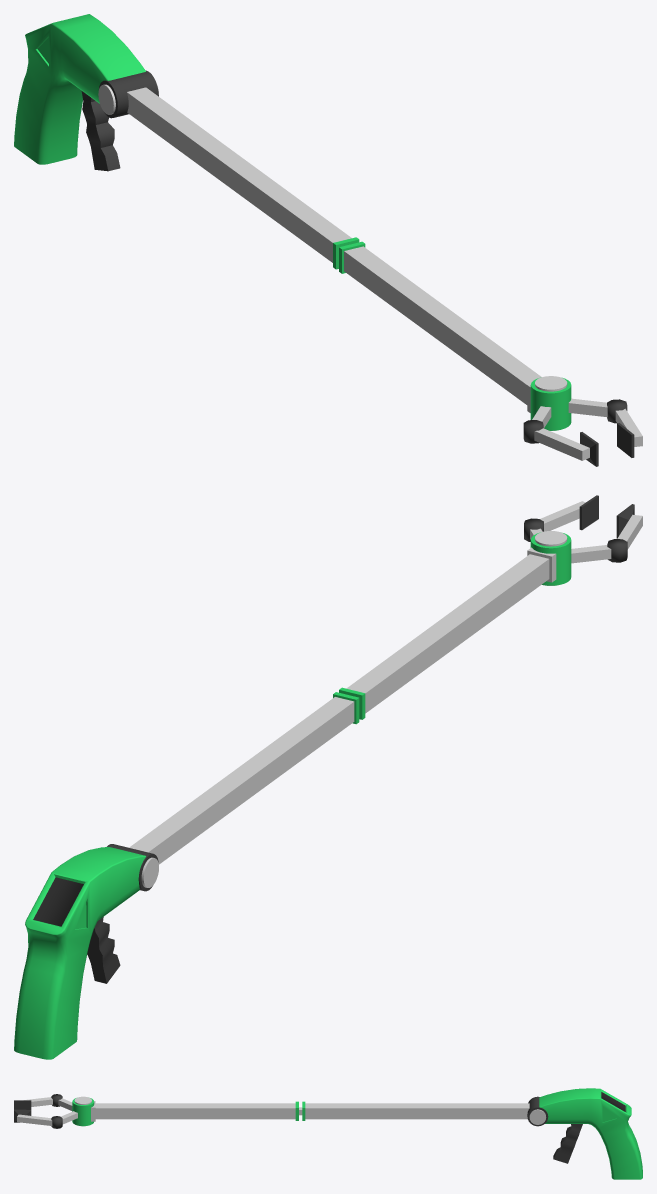
The model's file is Trash Clipper.fbx.
3 renders of one model, top to bottom at view 1: azimuth 30°, elevation 25°; view 2: azimuth 150°, elevation 25°; view 3: azimuth 270°, elevation 25°, orthographic. The views are drawn at different scales.
Parts seen in each view (by area): view 1: Clip_Base, Clip_Hand_R, Clip_Hand_L; view 2: Clip_Base, Clip_Hand_R, Clip_Hand_L; view 3: Clip_Base, Clip_Hand_L, Clip_Hand_R.
Boxes of the visible parts, x1=… form: Clip_Base: x1=14, y1=14, x2=571, y2=430; Clip_Hand_R: x1=523, y1=406, x2=598, y2=466; Clip_Hand_L: x1=568, y1=398, x2=642, y2=457; Clip_Base: x1=14, y1=531, x2=571, y2=1059; Clip_Hand_R: x1=571, y1=504, x2=642, y2=563; Clip_Hand_L: x1=524, y1=495, x2=598, y2=541; Clip_Base: x1=72, y1=1088, x2=642, y2=1179; Clip_Hand_L: x1=14, y1=1109, x2=77, y2=1128; Clip_Hand_R: x1=14, y1=1094, x2=72, y2=1110.
Size of the model in its own units: 213 by 302 by 2118.
Materials: 1 (1 with a texture image).
